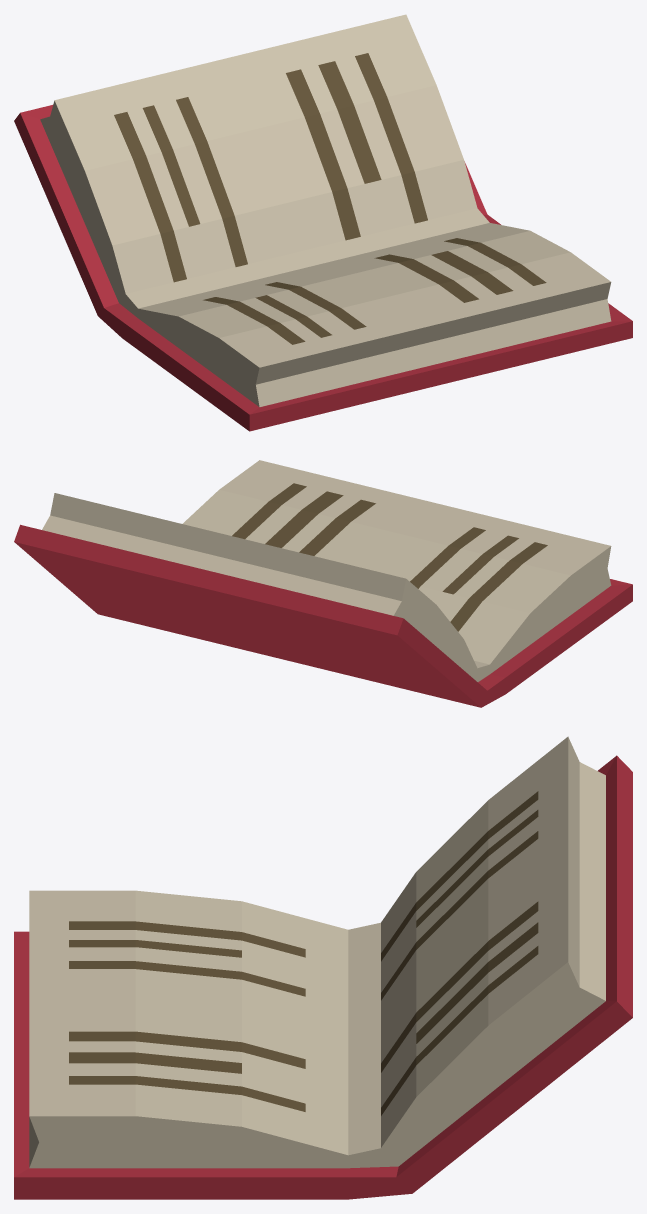
File: Book2.glb
3 views of the same model, one above another, from view 1: azimuth 30°, elevation 25°; view 2: azimuth 150°, elevation 25°; view 3: azimuth 270°, elevation 25° (orthographic). The views are drawn at different scales.
Visible parts, largest first — view 1: Book2; view 2: Book2; view 3: Book2.
Part boxes in pixels (left/top/right/bottom): Book2: left=14, top=14, right=632, bottom=431; Book2: left=14, top=460, right=632, bottom=707; Book2: left=14, top=736, right=632, bottom=1199.
Size of the model in its own units: 1.19 by 0.515 by 1.27.
